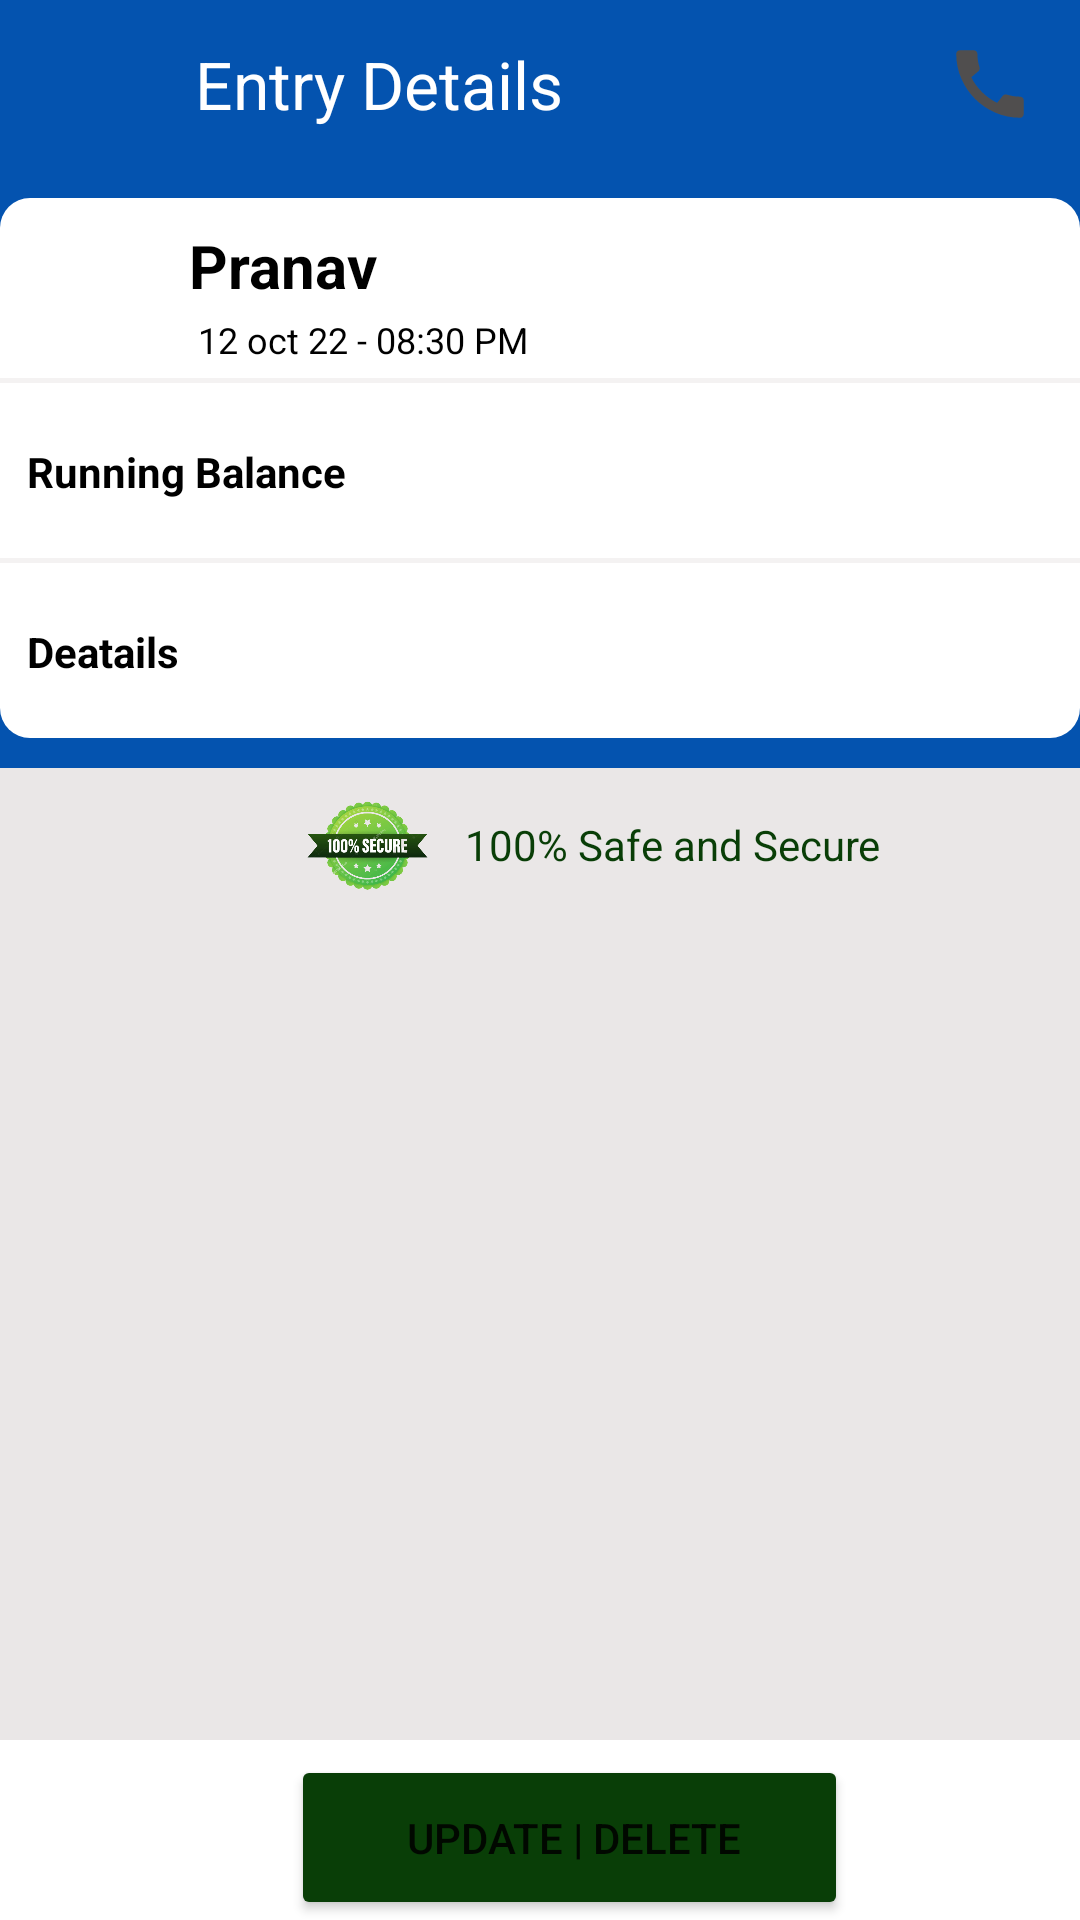

Point at icon controls on the screen. Image size 1080w x 1920h, points as (x,y).
call: (990,84)
